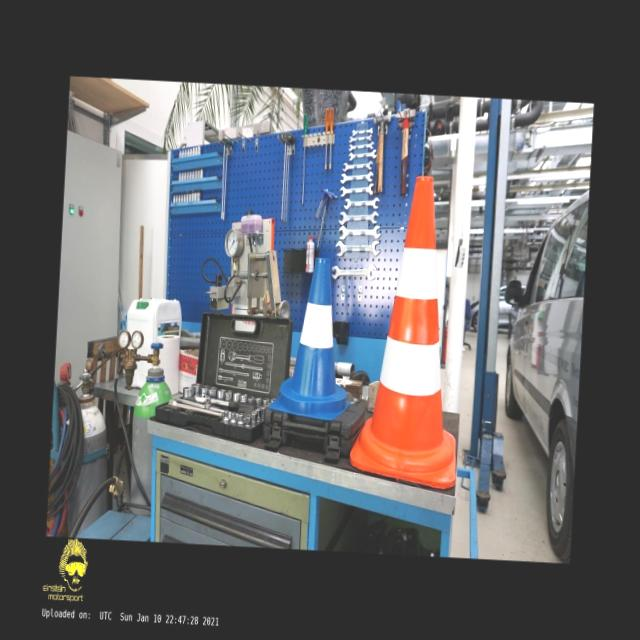blue_cone: (268, 254, 359, 422)
large_orange_cone: (348, 172, 471, 490)
